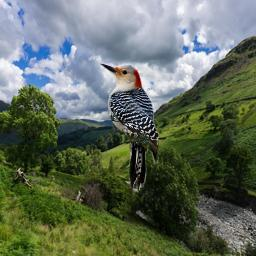Woodpecker: (100, 63, 159, 190)
